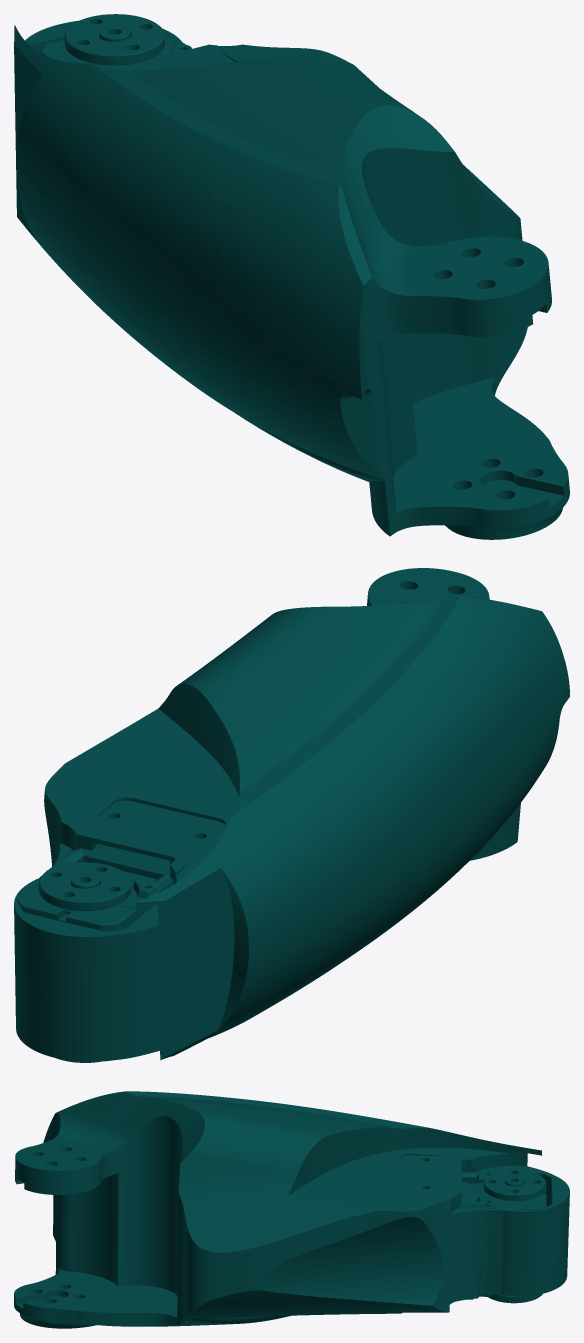
File: leg_left_hip_pitch_visuals.obj
3 renders of one model, top to bottom at view 1: azimuth 30°, elevation 25°; view 2: azimuth 150°, elevation 25°; view 3: azimuth 270°, elevation 25°, orthographic. The views are drawn at different scales.
Size of the model in its own units: 0.0739 by 0.0689 by 0.173.
